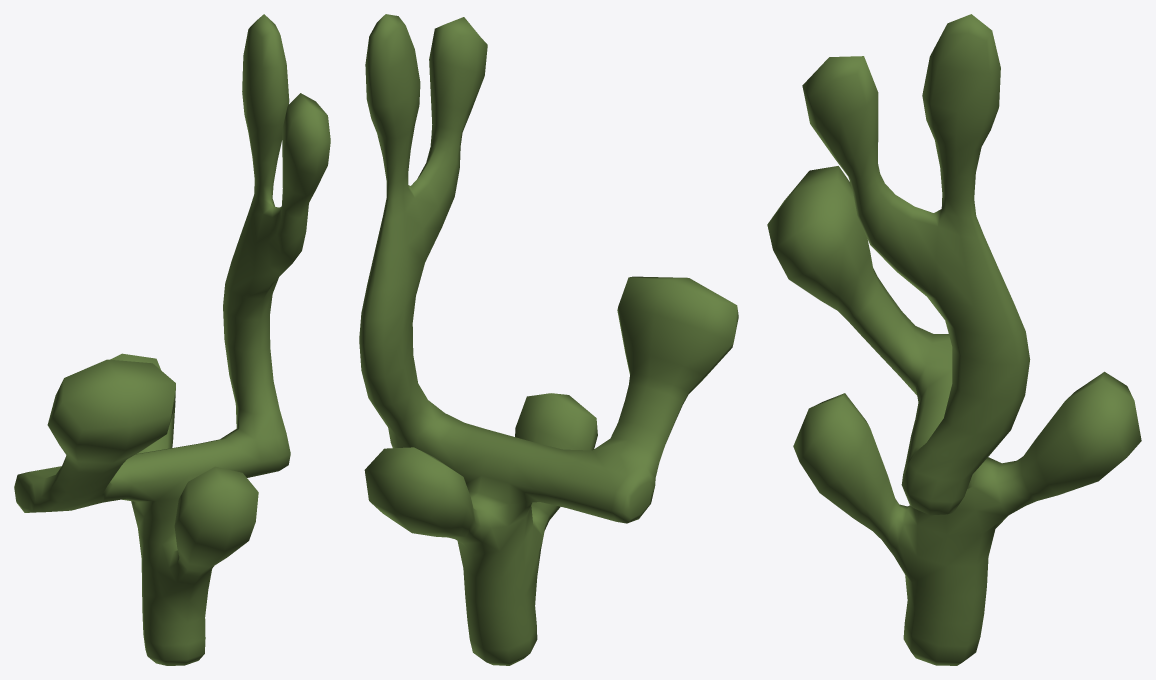
Rendered from rumput laut pendek.fbx.
The picture shows the model from 3 angles, left to right: view 1: azimuth 30°, elevation 25°; view 2: azimuth 150°, elevation 25°; view 3: azimuth 270°, elevation 25°; orthographic projection. The views are drawn at different scales.
Parts seen in each view (by area): view 1: rumput laut 6.009; view 2: rumput laut 6.009; view 3: rumput laut 6.009.
Boxes of the visible parts, x1,y1,x2,y2 form: rumput laut 6.009: [14, 14, 330, 665]; rumput laut 6.009: [359, 14, 738, 665]; rumput laut 6.009: [767, 14, 1141, 665].
Bounding box in the file's own units: 199 × 399 × 193.
